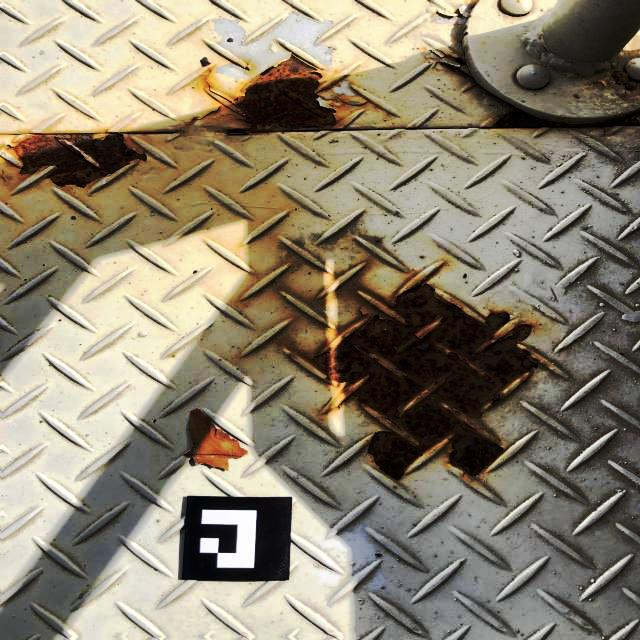Corrosion: (331, 285, 539, 480), (227, 53, 337, 135), (0, 133, 147, 188), (488, 108, 640, 128), (611, 67, 640, 88)
